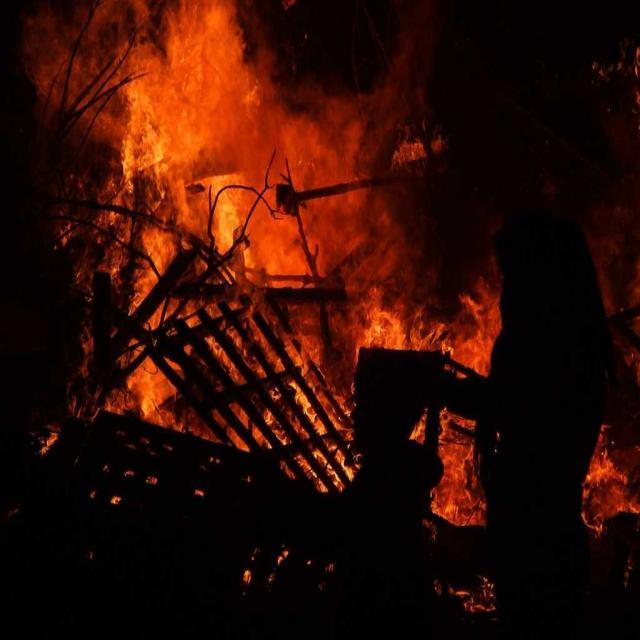Fire: (260, 46, 498, 360), (118, 15, 254, 184), (120, 350, 206, 437), (214, 363, 292, 447), (580, 418, 637, 531), (296, 385, 354, 480), (439, 412, 487, 522)
